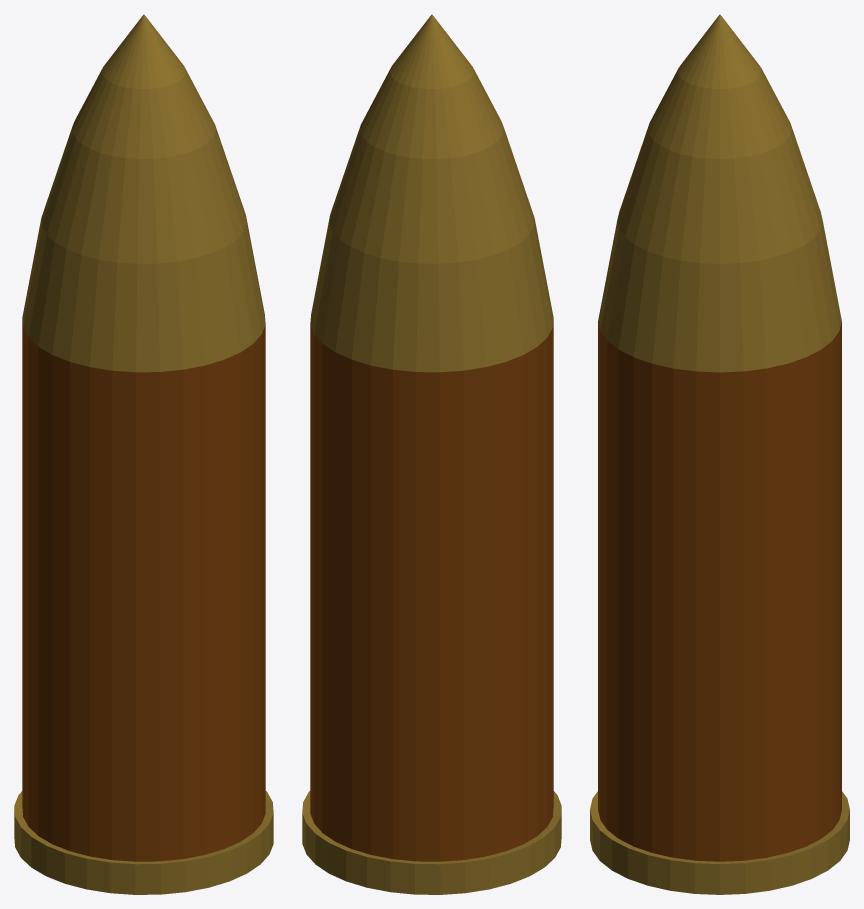
File: Rifle Bullet.fbx
3 renders of one model, left to right at view 1: azimuth 30°, elevation 25°; view 2: azimuth 150°, elevation 25°; view 3: azimuth 270°, elevation 25°, orthographic.
Parts seen in each view (by area): view 1: Cylinder; view 2: Cylinder; view 3: Cylinder.
Part boxes in pixels (bbox=[...]): Cylinder: bbox=[14, 14, 273, 894]; Cylinder: bbox=[302, 14, 561, 894]; Cylinder: bbox=[590, 14, 849, 894].
Bounding box in the file's own units: 30.88 × 108 × 30.88.
